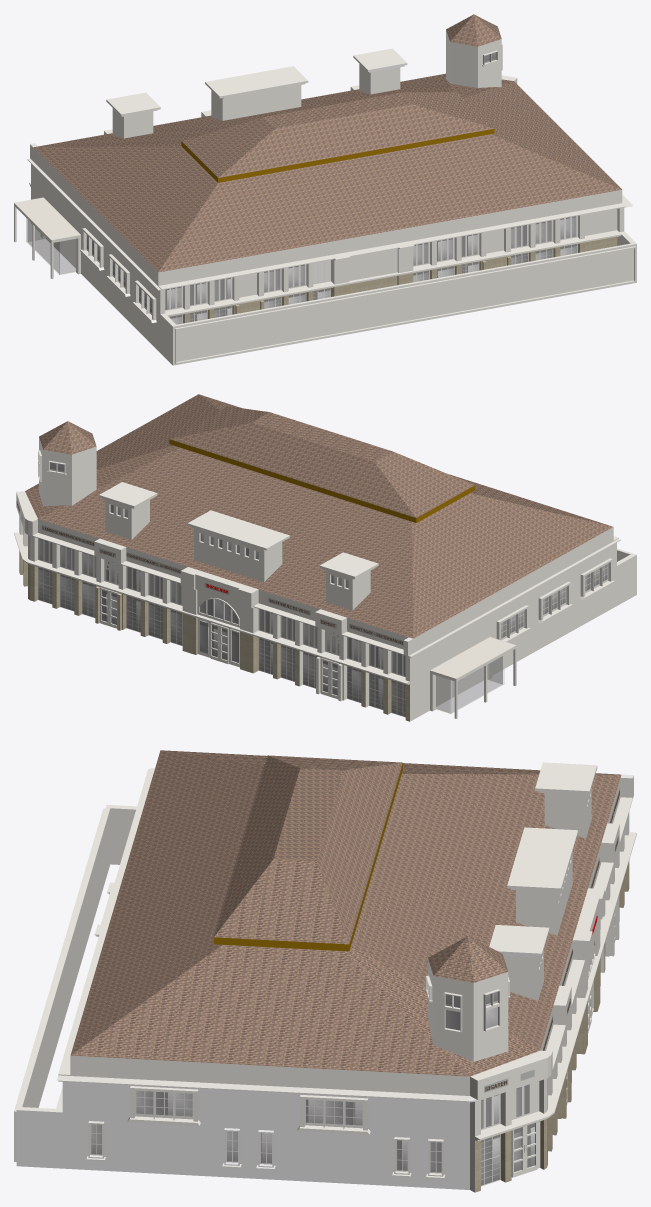
The model's file is gedung_warenhuis_de_vries_bandung.glb.
3 renders of one model, top to bottom at view 1: azimuth 30°, elevation 25°; view 2: azimuth 150°, elevation 25°; view 3: azimuth 270°, elevation 25°, orthographic. The views are drawn at different scales.
Parts seen in each view (by area): view 1: Material2 (×9); view 2: Material2 (×10); view 3: Material2 (×7).
Boxes of the visible parts, bbox=[...] form: Material2 (×9): bbox=[14, 14, 636, 365]; Material2 (×10): bbox=[14, 394, 636, 721]; Material2 (×7): bbox=[14, 750, 636, 1192].
Size of the model in its own units: 2021 by 632 by 1583.
Materials: 20 (10 with a texture image).
